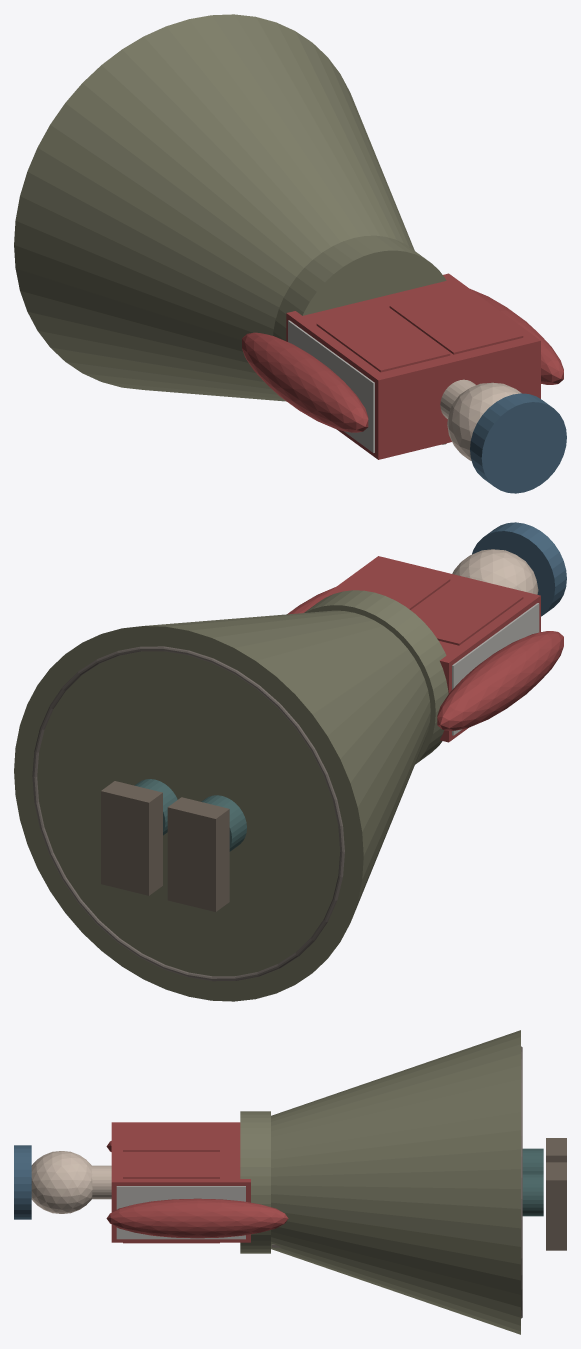
File: MASTER_007_STAGE3_DETAIL.glb
3 views of the same model, one above another, from view 1: azimuth 30°, elevation 25°; view 2: azimuth 150°, elevation 25°; view 3: azimuth 270°, elevation 25° (orthographic). The views are drawn at different scales.
Visible parts, largest first — view 1: slot_lower_main__fund_i_gjatë, slot_upper_inner__këmishë, slot_waist__brez, slot_headwear__mbulesë_koke, slot_upper_inner_sleeve_L, slot_upper_outer__jelek_L, slot_upper_outer__jelek_R, mannequin_torso, mannequin_head, slot_upper_inner_sleeve_R; view 2: slot_lower_main__fund_i_gjatë, slot_footwear__opinga_L, slot_footwear__opinga_R, slot_upper_inner_sleeve_L, detail_skirt_hem, slot_waist__brez, slot_upper_outer__jelek_L, slot_headwear__mbulesë_koke, slot_upper_inner__këmishë, slot_upper_outer__jelek_R, mannequin_head, mannequin_torso (+2 smaller); view 3: slot_lower_main__fund_i_gjatë, slot_upper_inner_sleeve_R, slot_upper_inner__këmishë, mannequin_head, slot_waist__brez, slot_upper_outer__jelek_R, slot_upper_outer__jelek_L, mannequin_torso, slot_footwear__opinga_R, slot_headwear__mbulesë_koke, slot_legwear__çorape_R, mannequin_neck (+3 smaller).
Part boxes in pixels (x1,y1,x2,y2): slot_lower_main__fund_i_gjatë: (14, 14, 414, 401); slot_upper_inner__këmishë: (286, 273, 540, 459); slot_waist__brez: (273, 235, 446, 340); slot_headwear__mbulesë_koke: (470, 393, 566, 493); slot_upper_inner_sleeve_L: (242, 332, 368, 432); slot_upper_outer__jelek_L: (316, 306, 450, 372); slot_upper_outer__jelek_R: (389, 289, 523, 354); mannequin_torso: (288, 320, 374, 452); mannequin_head: (447, 382, 521, 460); slot_upper_inner_sleeve_R: (470, 289, 563, 384); slot_lower_main__fund_i_gjatë: (14, 610, 430, 1001); slot_footwear__opinga_L: (167, 797, 229, 911); slot_footwear__opinga_R: (101, 781, 162, 895); slot_upper_inner_sleeve_L: (437, 631, 563, 730); detail_skirt_hem: (32, 646, 344, 981); slot_waist__brez: (304, 590, 448, 764); slot_upper_outer__jelek_L: (411, 580, 523, 645); slot_headwear__mbulesë_koke: (472, 522, 566, 616); slot_upper_inner__këmishë: (300, 556, 540, 742); slot_upper_outer__jelek_R: (339, 562, 450, 609); mannequin_head: (452, 549, 538, 594); mannequin_torso: (452, 603, 539, 735); slot_lower_main__fund_i_gjatë: (271, 1030, 520, 1334); slot_upper_inner_sleeve_R: (106, 1198, 288, 1238); slot_upper_inner__këmishë: (111, 1122, 250, 1242); mannequin_head: (31, 1151, 92, 1213); slot_waist__brez: (240, 1111, 270, 1253); slot_upper_outer__jelek_R: (123, 1151, 219, 1243); slot_upper_outer__jelek_L: (123, 1124, 219, 1151); mannequin_torso: (116, 1186, 245, 1239); slot_footwear__opinga_R: (546, 1162, 566, 1250); slot_headwear__mbulesë_koke: (14, 1145, 31, 1219); slot_legwear__çorape_R: (522, 1173, 543, 1216); mannequin_neck: (91, 1165, 111, 1199).
Bounding box in the file's own units: 0.9435 × 0.9435 × 1.71.
